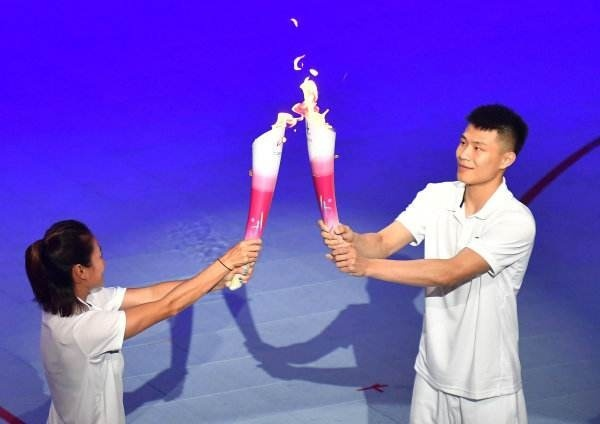fire: (294, 64, 324, 123), (292, 51, 313, 75)
